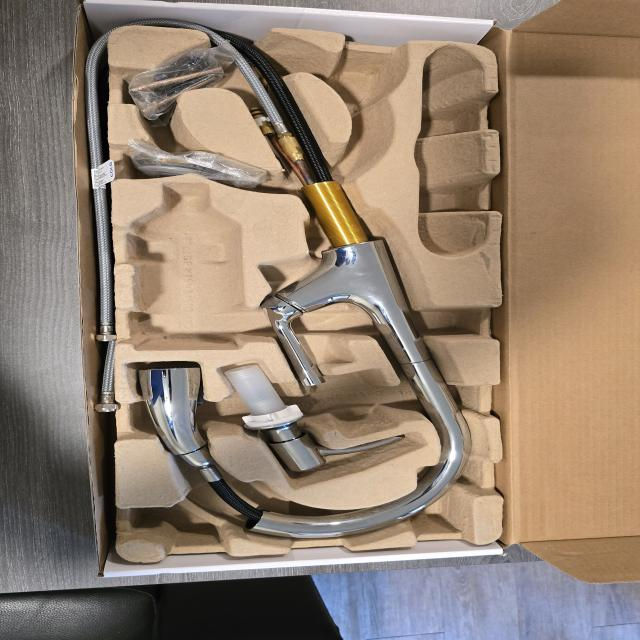1: (137, 30, 473, 540)
2: (226, 364, 405, 474)
3m: (129, 180, 242, 350)
4m: (414, 43, 488, 255)
5m: (328, 54, 402, 111)
6: (122, 140, 268, 186)
7: (121, 42, 236, 130)
